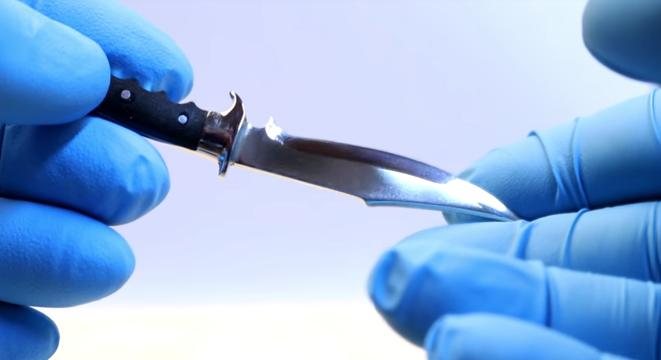knife: (91, 72, 522, 222)
